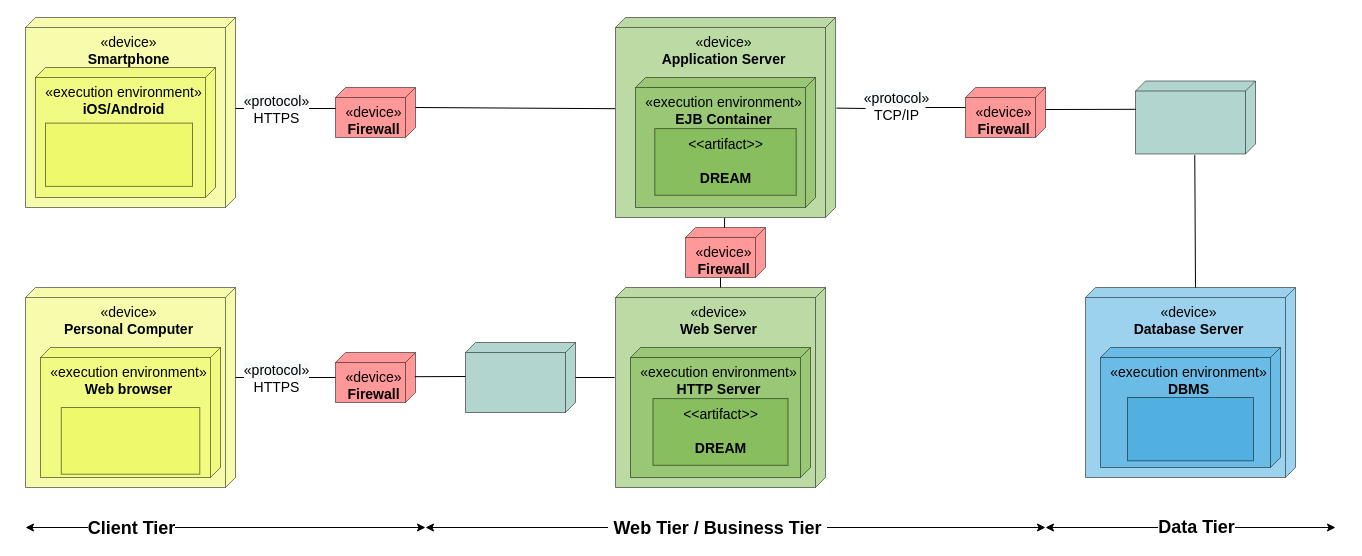
Some shapes in this 1362 by 556 pixel diagram are drawn without their labels. The centre of each missing label's shape, as x and y in pixels:
"<<artifact>> DREAM Mobile App" belongs at [118,154].
"<<artifact>> DREAM Web App" belongs at [130,440].
"<<schema>> DREAM_database" belongs at [1190,428].
"«device» LoadBalancer for DB Tier" belongs at [1195,117].
"«device» LoadBalancer for WebTier" belongs at [520,377].
